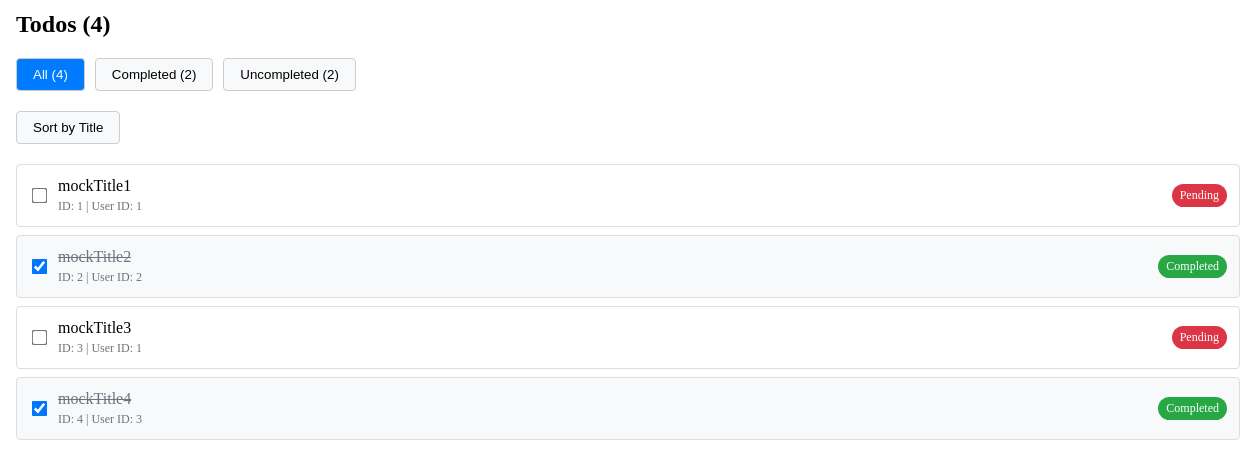
Test: Todo component Test › filter uncompleted todos
Click the button "Uncompleted (2)": {"x": 290, "y": 74} x1=223 y1=58 x2=356 y2=91
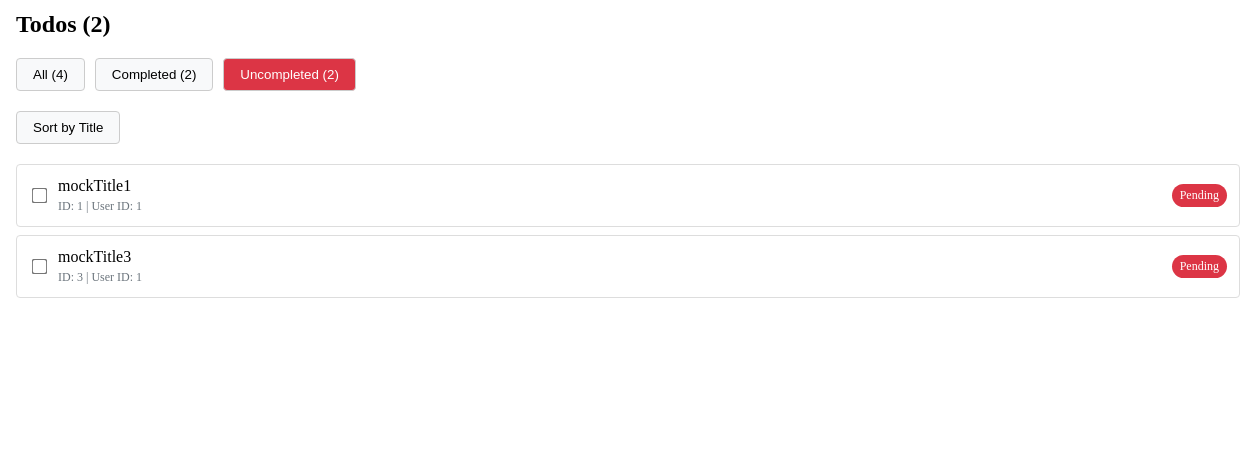
Check: the text "mockTitle1" is shown, box x1=58 y1=177 x2=131 y2=194
Check: the text "mockTitle2" is gone
Check: the text "mockTitle4" is gone
